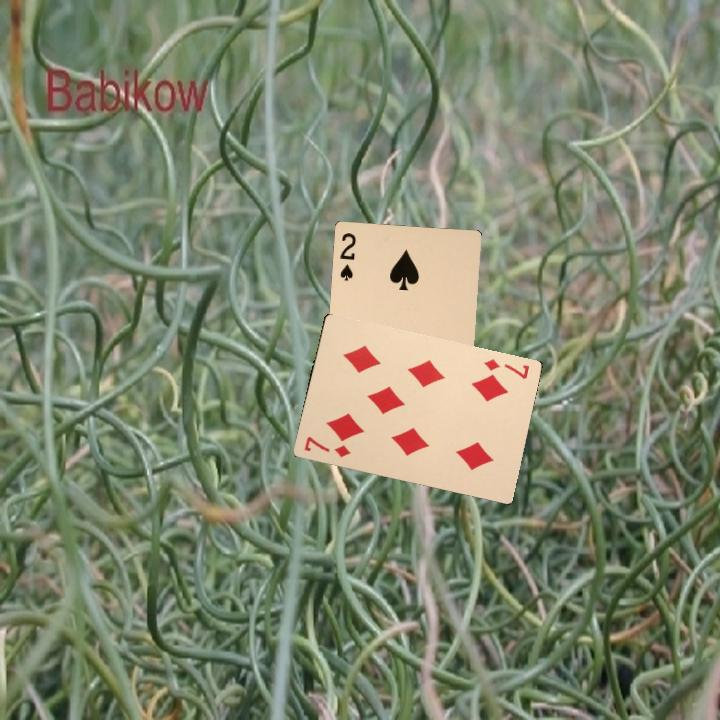2s: (336, 229, 358, 283)
7d: (300, 432, 353, 460), (480, 355, 532, 382)
